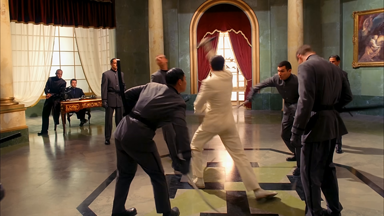bladed_weapon: (111, 55, 130, 116), (233, 97, 252, 113)
